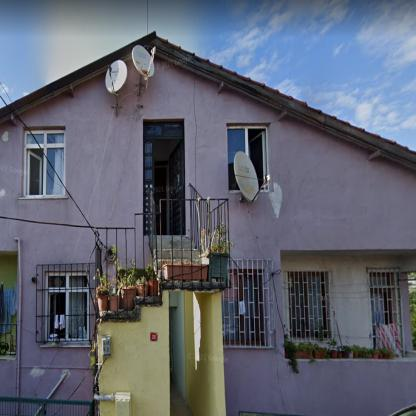door: (169, 142, 183, 233), (144, 141, 153, 229)
window: (224, 273, 262, 342), (25, 132, 65, 196), (48, 274, 86, 339), (289, 275, 326, 335), (247, 127, 268, 188), (227, 126, 245, 190), (372, 275, 393, 321), (145, 124, 183, 137)
